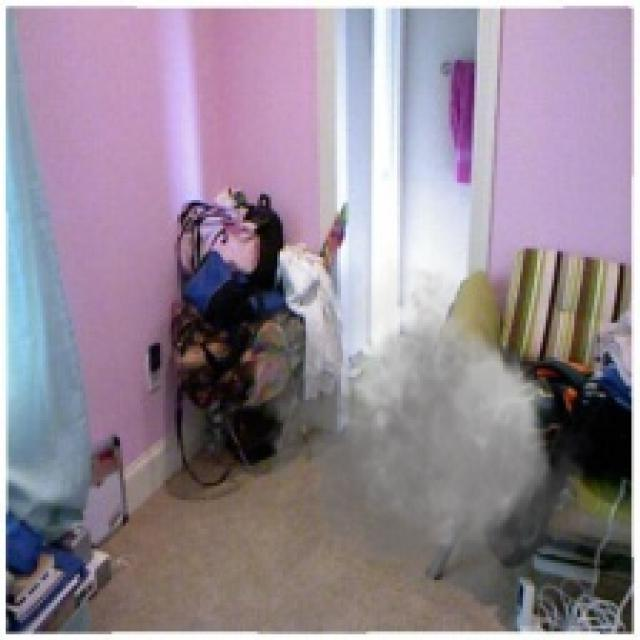Smoke: (246, 245, 603, 618)
